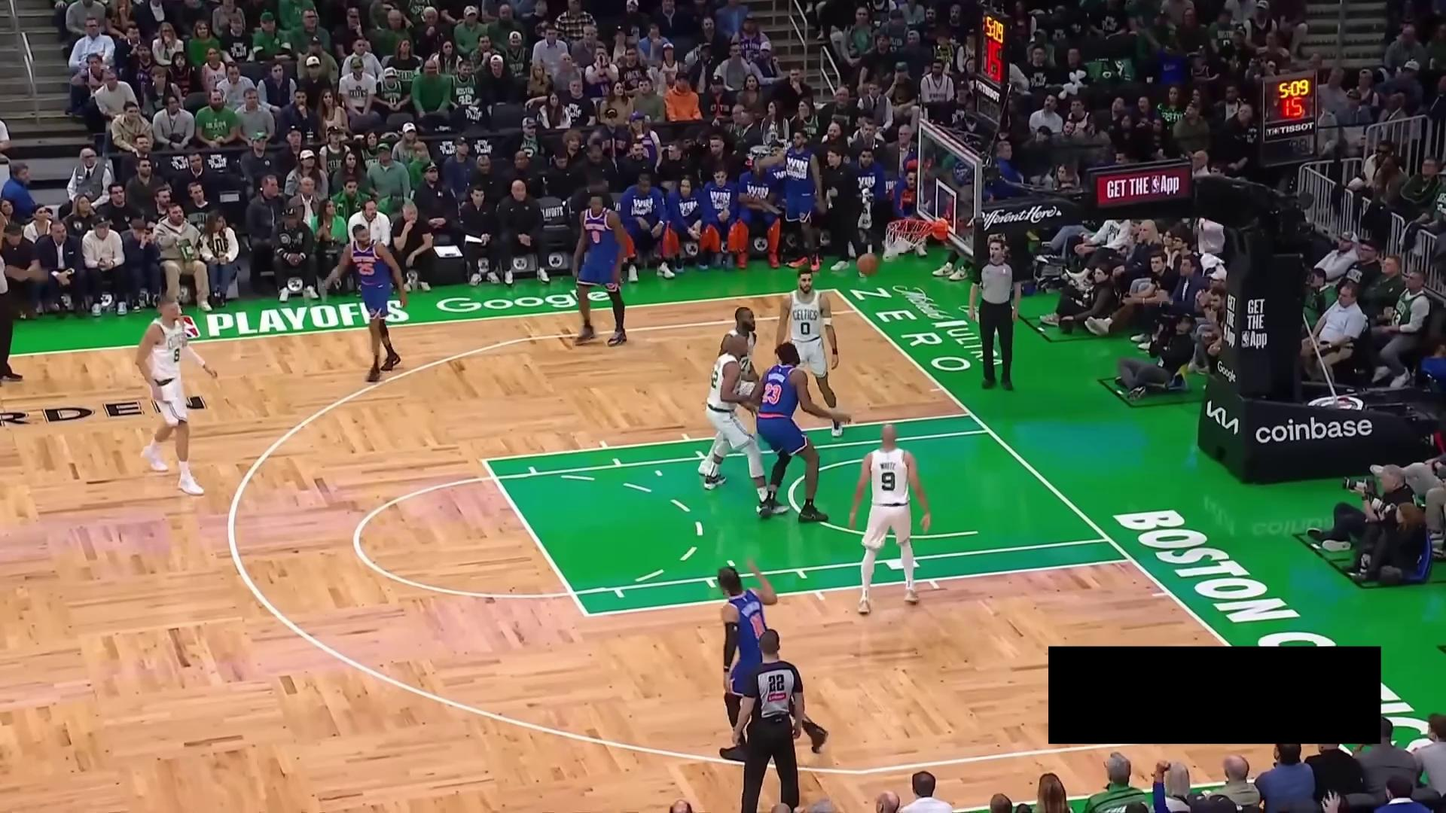ball: (856, 252, 880, 276)
number: (749, 610, 764, 639), (764, 382, 782, 406), (880, 471, 896, 492), (358, 261, 375, 276), (799, 320, 812, 336), (172, 346, 182, 364), (591, 229, 600, 244)
player: (716, 558, 831, 762), (748, 342, 853, 525), (135, 294, 219, 497), (849, 422, 932, 616), (703, 335, 790, 516), (320, 221, 409, 384), (775, 266, 848, 438), (698, 306, 761, 476), (572, 192, 634, 348)
referee: (732, 626, 805, 813), (969, 236, 1023, 391), (0, 215, 44, 388)
rim: (886, 218, 933, 235)
